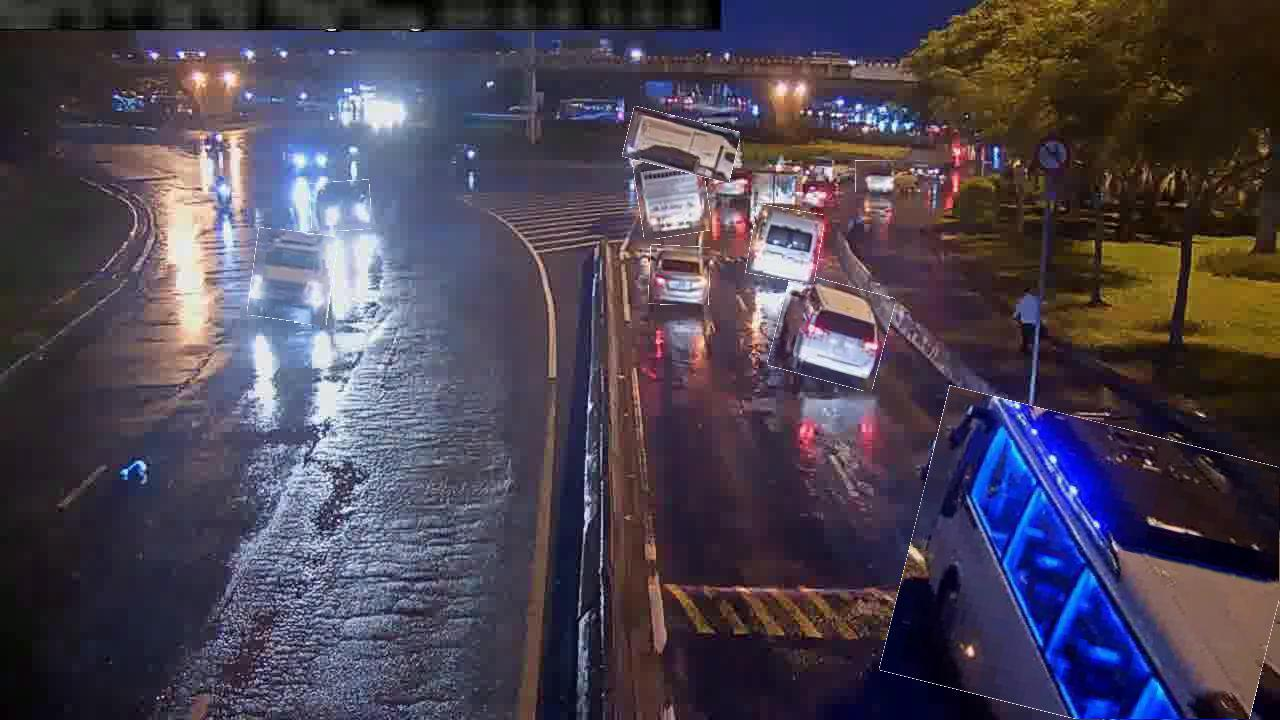14: (894, 405, 1279, 719), (748, 207, 823, 282)
8: (625, 113, 739, 177), (635, 154, 710, 238)
container: (773, 277, 891, 386), (250, 230, 336, 324), (649, 245, 711, 306), (310, 180, 372, 231), (855, 160, 898, 193)
